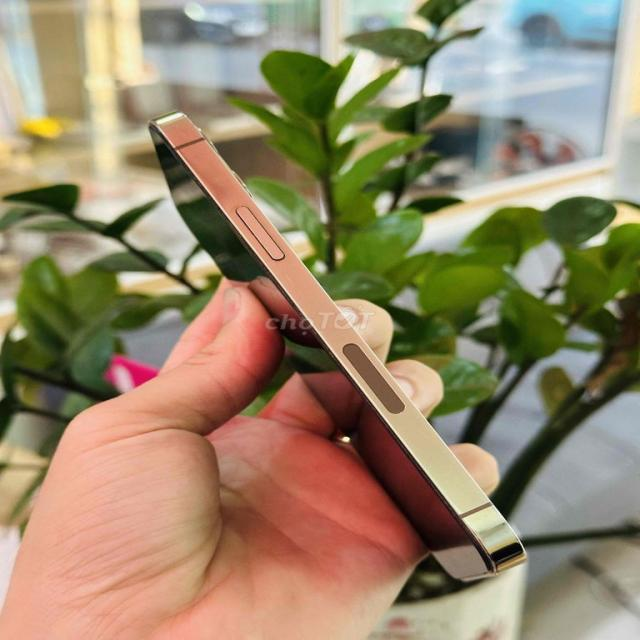gen_12_13: (147, 110, 532, 586)
